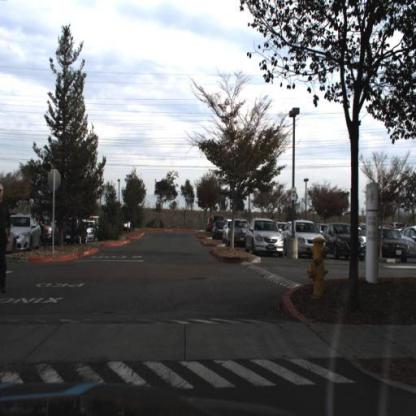car: (284, 221, 325, 257), (326, 224, 367, 258), (248, 219, 284, 257), (9, 214, 43, 254), (17, 216, 42, 256), (382, 226, 409, 262), (63, 215, 86, 246), (227, 219, 252, 245), (228, 219, 247, 250), (43, 218, 59, 247), (83, 220, 100, 245), (4, 230, 19, 253), (212, 220, 226, 243), (221, 217, 231, 246), (86, 223, 96, 243), (215, 225, 225, 243)
pedestrian: (1, 182, 13, 297)
